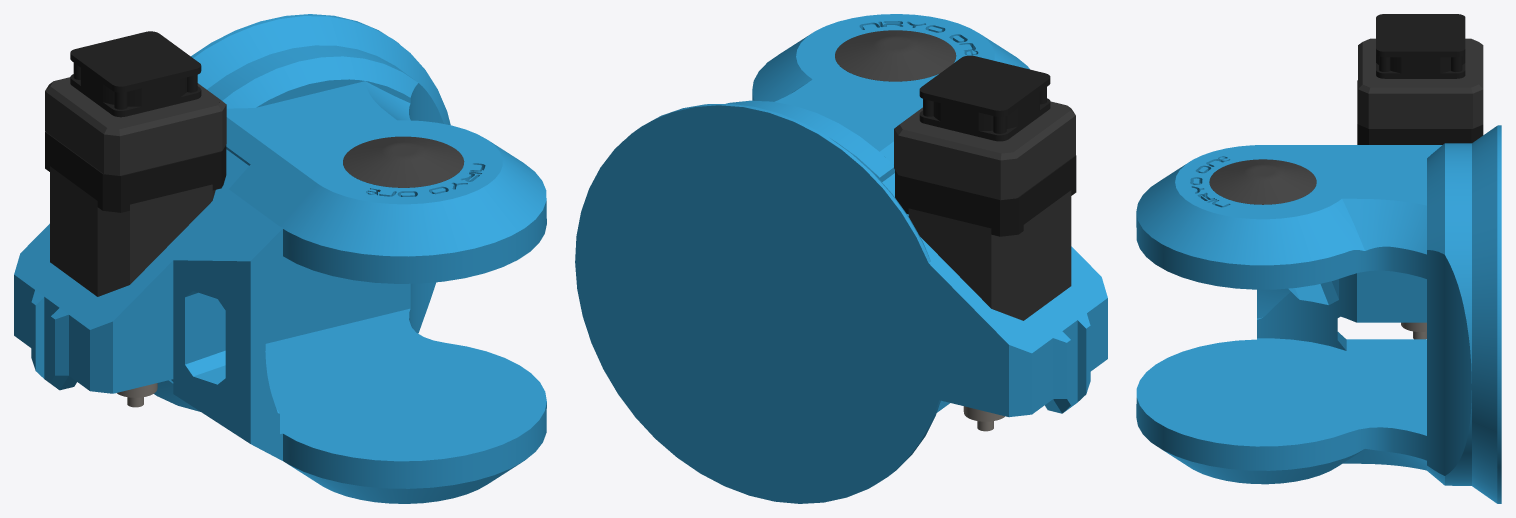
File: shoulder_link.dae
The picture shows the model from 3 angles, left to right: view 1: azimuth 30°, elevation 25°; view 2: azimuth 150°, elevation 25°; view 3: azimuth 270°, elevation 25°; orthographic projection. The views are drawn at different scales.
Parts seen in each view (by area): view 1: Body_1, Body_9, Body_14, Body_13, Body_8, Body_6; view 2: Body_1, Body_9, Body_14, Body_13, Body_8, Body_6; view 3: Body_1, Body_14, Body_13, Body_6, Body_8.
Boxes of the visible parts, bbox=[...] form: Body_1: bbox=[14, 14, 546, 503]; Body_9: bbox=[50, 166, 215, 296]; Body_14: bbox=[45, 77, 226, 175]; Body_13: bbox=[70, 31, 201, 117]; Body_8: bbox=[45, 131, 226, 212]; Body_6: bbox=[343, 136, 464, 191]; Body_1: bbox=[575, 14, 1107, 503]; Body_9: bbox=[908, 190, 1071, 320]; Body_14: bbox=[894, 101, 1075, 200]; Body_13: bbox=[919, 55, 1050, 141]; Body_8: bbox=[895, 155, 1076, 236]; Body_6: bbox=[835, 30, 956, 81]; Body_1: bbox=[1136, 125, 1501, 503]; Body_14: bbox=[1358, 38, 1483, 128]; Body_13: bbox=[1376, 14, 1465, 78]; Body_6: bbox=[1209, 159, 1316, 204]; Body_8: bbox=[1357, 80, 1483, 144].
Bounding box in the file's own units: 0.1565 × 0.1392 × 0.1225.
